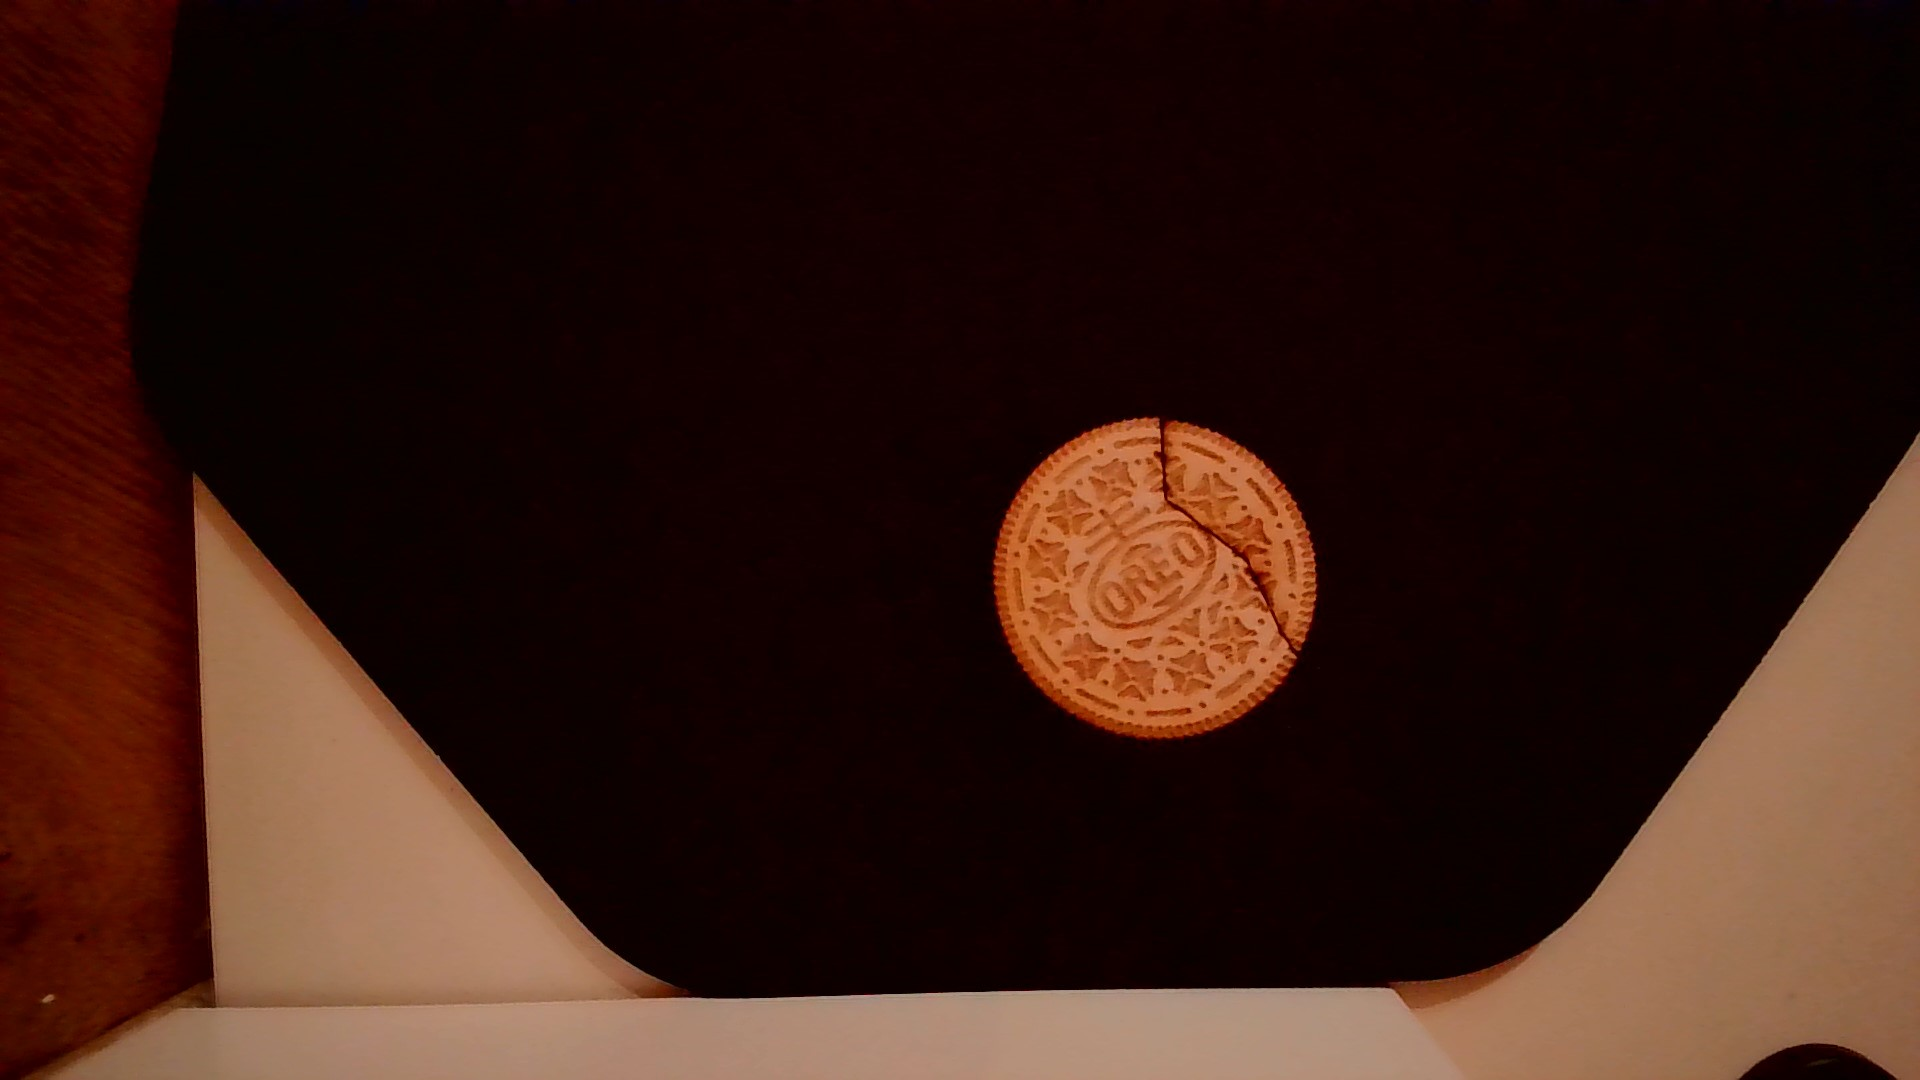Fissure: (1153, 413, 1302, 665)
Oréo: (980, 409, 1323, 749)
